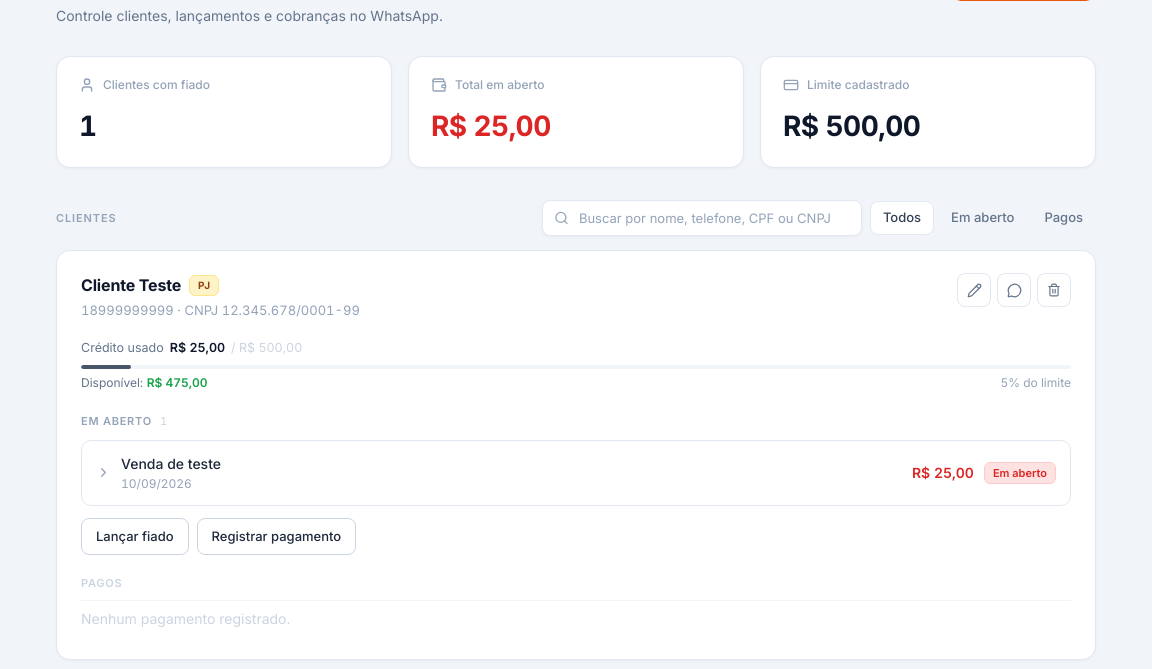
Test: credit invoice actions › manually updates status and reveals DANFE/XML without reloading the page
What coordinates should you click on to do the following:
click the text "Venda de teste"
I would click on:
 (171, 464)
Its box is [121, 454, 221, 474].
(page scrolled)
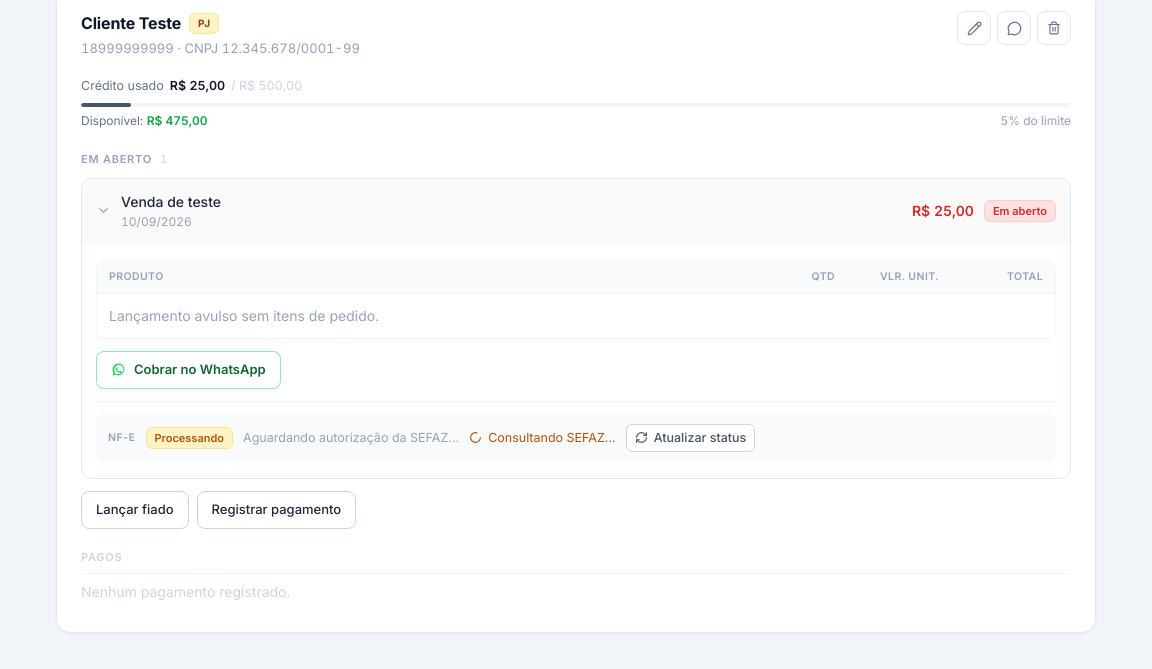
What coordinates should you click on to do the following:
click the button "Atualizar status"
I would click on:
 (691, 438)
Its box is [626, 424, 755, 452].
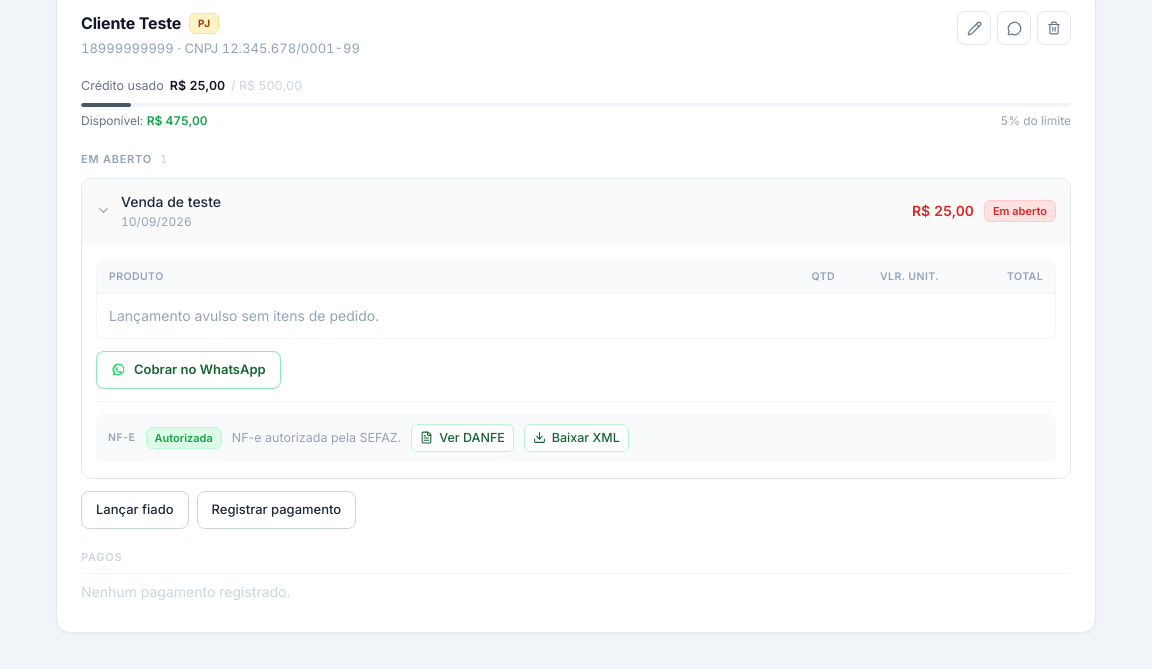
Expected: the text "Autorizada" is shown, [146, 427, 222, 449]
